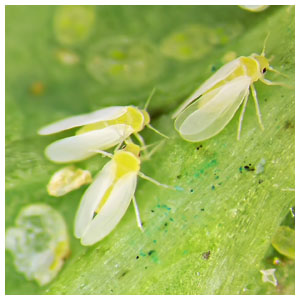Tobacco Whitefly: (171, 42, 275, 153), (75, 140, 158, 254)
